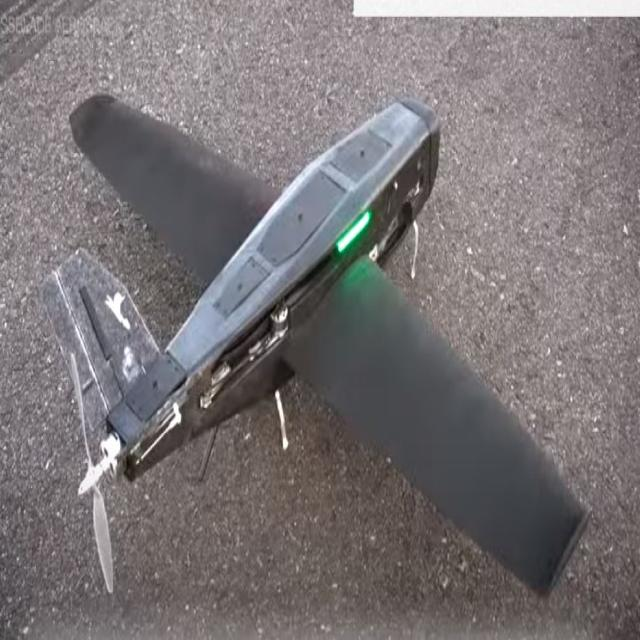iha: (43, 88, 593, 604)
